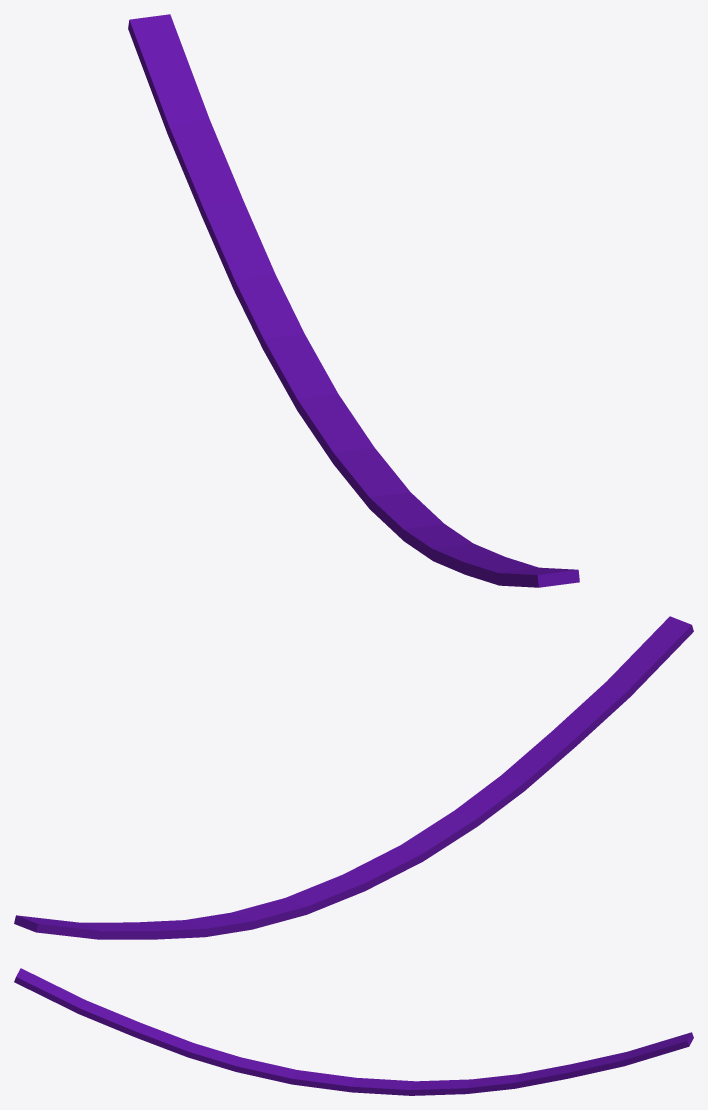
Rendered from Tape_20.fbx.
3 views of the same model, one above another, from view 1: azimuth 30°, elevation 25°; view 2: azimuth 150°, elevation 25°; view 3: azimuth 270°, elevation 25° (orthographic). The views are drawn at different scales.
Parts seen in each view (by area): view 1: Tape_20; view 2: Tape_20; view 3: Tape_20.
Boxes of the visible parts, x1,y1,x2,y2 form: Tape_20: (128,14,579,587); Tape_20: (14,616,693,939); Tape_20: (14,968,693,1095).
Bounding box in the file's own units: 195 × 103 × 762.
